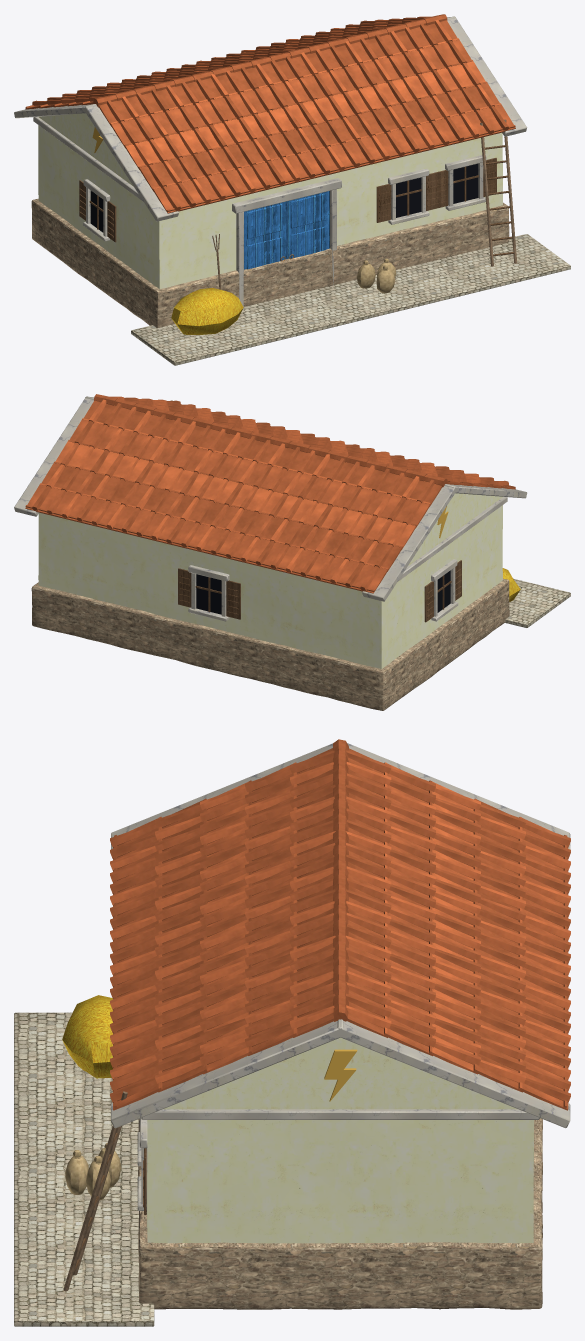
Rendered from country_barn.glb.
3 renders of one model, top to bottom at view 1: azimuth 30°, elevation 25°; view 2: azimuth 150°, elevation 25°; view 3: azimuth 270°, elevation 25°, orthographic. The views are drawn at different scales.
Parts seen in each view (by area): view 1: plaster, terracotta1, terracotta0, drystone, paving, terracotta2, marble, azure_wood, wood_dark, hay.001, dark, wood (+1 smaller); view 2: plaster, terracotta1, drystone, terracotta0, terracotta2, marble, wood_dark, paving, dark; view 3: plaster, terracotta1, terracotta0, terracotta2, paving, drystone, marble, hay.001, sack.003, wood, gold.
Part boxes in pixels (left/top/right/bottom): plaster: left=38, top=113, right=502, bottom=288; terracotta1: left=25, top=14, right=515, bottom=211; terracotta0: left=25, top=18, right=515, bottom=213; drystone: left=31, top=198, right=509, bottom=327; paving: left=131, top=234, right=570, bottom=365; terracotta2: left=40, top=16, right=501, bottom=203; marble: left=14, top=16, right=527, bottom=306; azure_wood: left=244, top=191, right=329, bottom=269; wood_dark: left=79, top=145, right=513, bottom=256; hay.001: left=171, top=288, right=243, bottom=334; dark: left=90, top=163, right=478, bottom=232; wood: left=212, top=119, right=517, bottom=289; plaster: left=38, top=493, right=502, bottom=668; terracotta1: left=25, top=394, right=515, bottom=591; drystone: left=31, top=578, right=509, bottom=710; terracotta0: left=25, top=398, right=515, bottom=593; terracotta2: left=39, top=396, right=500, bottom=583; marble: left=14, top=396, right=527, bottom=621; wood_dark: left=178, top=560, right=461, bottom=622; paving: left=505, top=578, right=570, bottom=627; dark: left=196, top=570, right=450, bottom=614; plaster: left=147, top=1037, right=533, bottom=1243; terracotta1: left=110, top=739, right=570, bottom=1108; terracotta0: left=110, top=763, right=570, bottom=1110; terracotta2: left=110, top=762, right=570, bottom=1091; paving: left=14, top=1012, right=154, bottom=1326; drystone: left=138, top=1118, right=542, bottom=1309; marble: left=111, top=743, right=570, bottom=1210; hay.001: left=62, top=995, right=112, bottom=1078; sack.003: left=65, top=1142, right=121, bottom=1200; wood: left=63, top=1091, right=127, bottom=1291; gold: left=324, top=1049, right=357, bottom=1101.
Size of the model in its own units: 10.4 by 4.8 by 7.93.
Materials: 16 (14 with a texture image).
